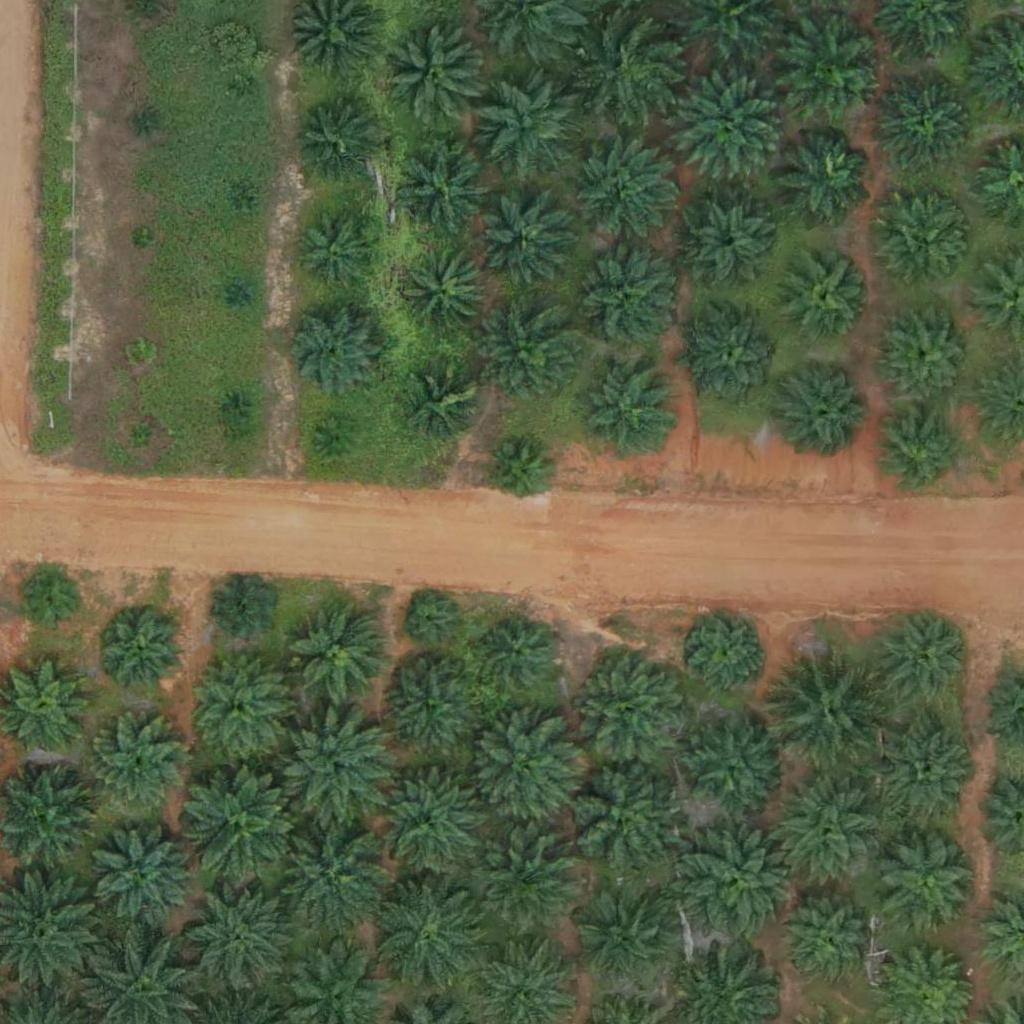Kelapa_Sawit: (181, 761, 306, 887), (264, 810, 389, 936), (369, 872, 494, 998), (569, 645, 694, 771), (557, 756, 682, 882), (677, 820, 802, 946), (768, 646, 893, 772), (764, 769, 889, 895), (365, 764, 490, 889), (671, 77, 784, 191), (278, 710, 391, 823), (278, 295, 390, 408), (89, 822, 201, 935), (180, 879, 292, 992), (467, 713, 579, 826), (468, 825, 580, 938), (876, 71, 976, 172), (784, 15, 884, 116), (475, 76, 575, 177), (384, 25, 484, 126), (392, 137, 492, 238), (479, 304, 579, 405), (573, 249, 673, 350), (578, 359, 678, 460), (85, 715, 185, 816), (189, 656, 289, 757), (289, 604, 389, 705), (378, 658, 478, 759), (577, 892, 677, 993), (773, 127, 873, 227), (580, 20, 680, 120), (573, 141, 673, 241), (684, 308, 784, 408), (776, 359, 876, 459), (878, 305, 978, 405), (683, 717, 783, 817), (873, 609, 973, 709), (877, 725, 977, 825), (877, 832, 977, 932), (296, 206, 384, 295), (681, 200, 769, 288), (293, 98, 381, 186), (402, 250, 490, 338), (99, 609, 187, 697), (881, 201, 968, 289), (482, 202, 569, 290), (784, 251, 871, 339), (878, 408, 965, 496), (785, 899, 872, 987), (690, 614, 765, 690), (409, 368, 484, 443), (481, 617, 556, 692), (488, 441, 551, 504), (211, 579, 274, 642), (21, 572, 83, 635), (406, 596, 456, 646), (318, 417, 356, 455), (234, 77, 259, 102), (228, 193, 253, 218), (134, 110, 159, 135), (130, 228, 155, 253), (126, 340, 151, 365), (129, 424, 154, 449), (229, 282, 254, 307), (222, 392, 247, 417)
